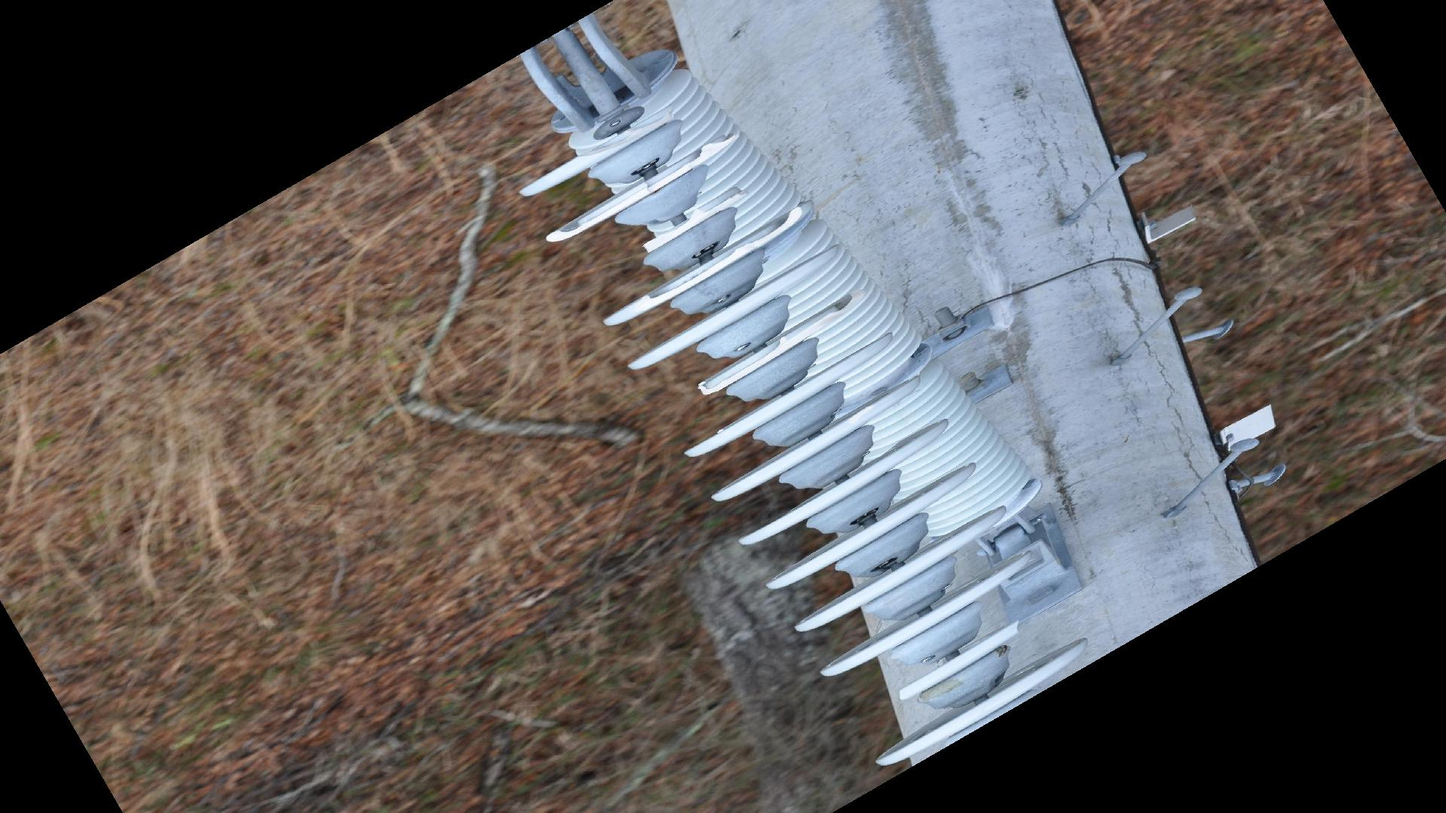insulator: (511, 105, 1094, 775), (621, 67, 1037, 540)
insulator_breakage: (545, 131, 735, 245), (695, 286, 867, 397), (637, 202, 806, 310), (895, 618, 1023, 702), (637, 183, 749, 254), (572, 108, 676, 164)
